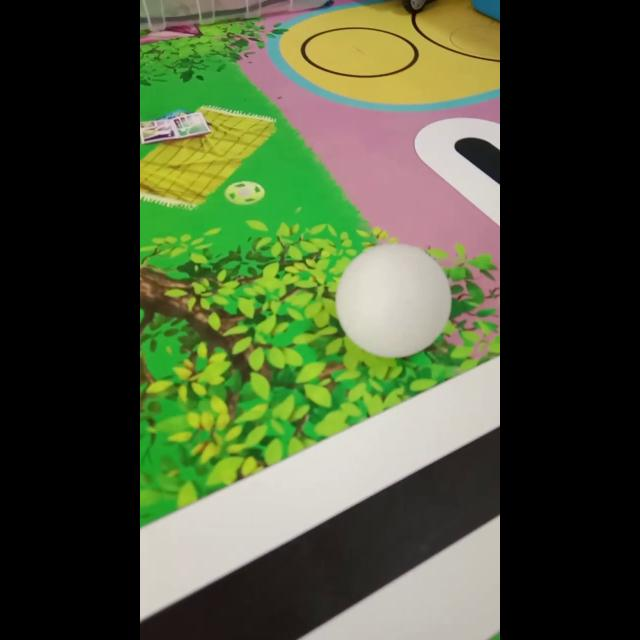white ball: (334, 242, 452, 358)
